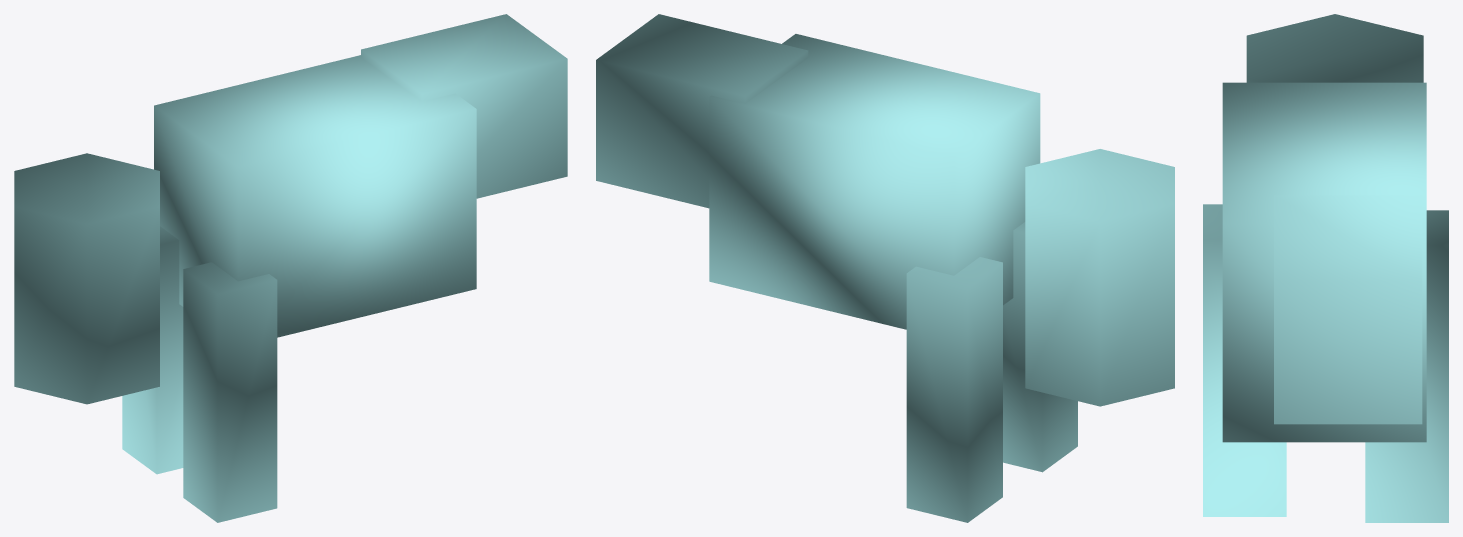
Rendered from ps2_jrpg_imperial_war_hound_enemy.obj.
3 views of the same model, side by side, from view 1: azimuth 30°, elevation 25°; view 2: azimuth 150°, elevation 25°; view 3: azimuth 270°, elevation 25° (orthographic). The views are drawn at different scales.
Size of the model in its own units: 1.6 by 1.02 by 0.5301.
